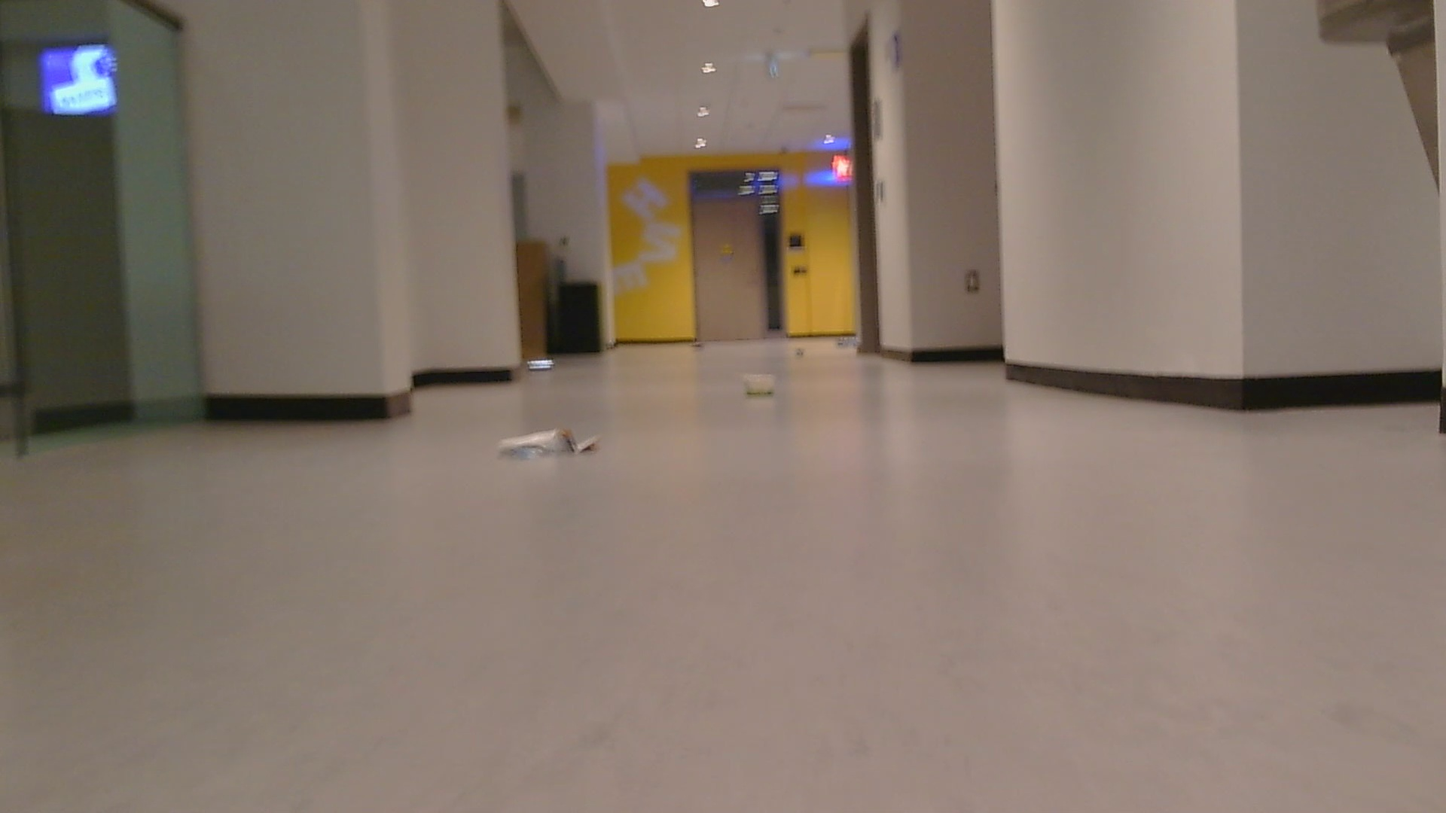carton: (490, 425, 594, 471), (735, 366, 779, 399), (529, 355, 571, 381), (676, 336, 719, 353), (833, 331, 869, 347), (801, 348, 810, 362)
